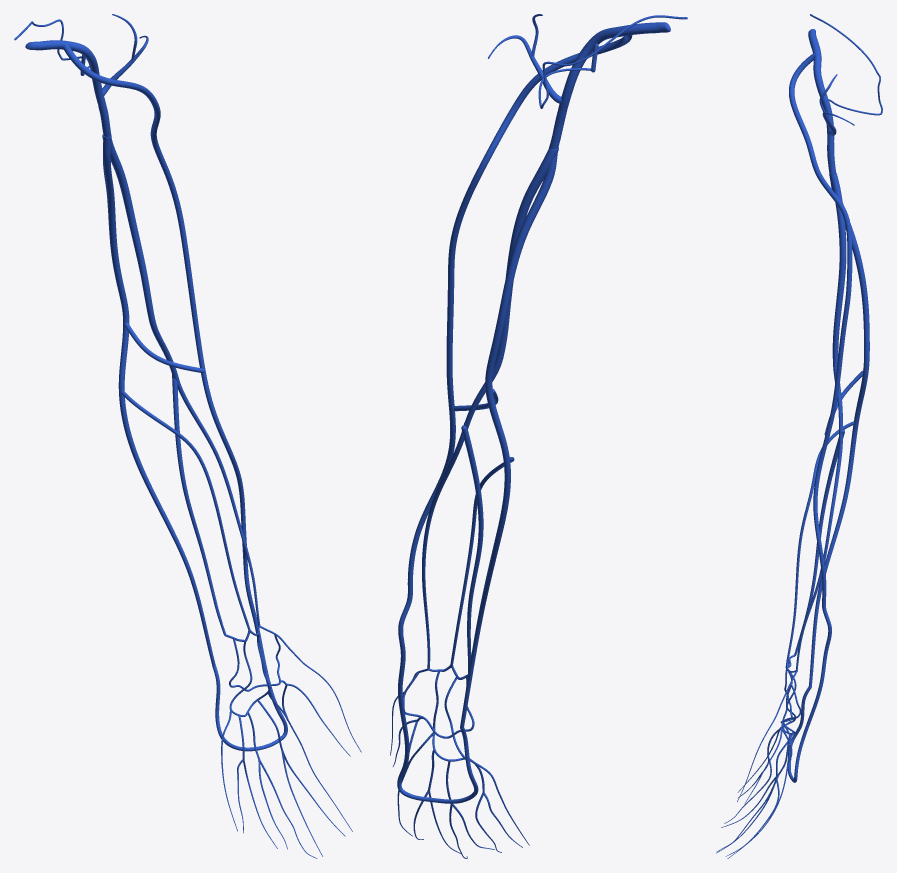
Rendered from veins.upper_limb_left.glb.
3 views of the same model, side by side, from view 1: azimuth 30°, elevation 25°; view 2: azimuth 150°, elevation 25°; view 3: azimuth 270°, elevation 25° (orthographic). The views are drawn at different scales.
Visible parts, largest first — view 1: left_cephalic_vein, left_basilic_vein, left_medial_brachial_vein, left_ulnar_vein, left_axillary_vein, left_median_antebrachial_vein, left_radial_vein, dorsal_venous_network_of_left_hand, proper_palmar_digital_vein_of_left_little_finger; view 2: left_cephalic_vein, left_basilic_vein, left_axillary_vein, left_medial_brachial_vein, left_ulnar_vein, left_radial_vein, dorsal_venous_network_of_left_hand, left_median_antebrachial_vein, proper_palmar_digital_vein_of_left_little_finger, left_anterior_circumflex_humeral_vein, left_superficial_palmar_venous_arch, left_suprascapular_vein; view 3: left_cephalic_vein, left_basilic_vein, left_medial_brachial_vein, left_axillary_vein, left_radial_vein, left_median_antebrachial_vein, left_ulnar_vein, dorsal_venous_network_of_left_hand, proper_palmar_digital_vein_of_left_little_finger, left_palmar_metacarpal_vein.
Boxes of the visible parts, bbox=[...] form: left_cephalic_vein: bbox=[63, 42, 267, 672]; left_basilic_vein: bbox=[103, 135, 215, 666]; left_medial_brachial_vein: bbox=[102, 134, 178, 377]; left_ulnar_vein: bbox=[172, 374, 245, 642]; left_axillary_vein: bbox=[25, 40, 111, 136]; left_median_antebrachial_vein: bbox=[121, 391, 259, 641]; left_radial_vein: bbox=[174, 374, 260, 626]; dorsal_venous_network_of_left_hand: bbox=[212, 665, 287, 751]; proper_palmar_digital_vein_of_left_little_finger: bbox=[221, 692, 302, 833]; left_cephalic_vein: bbox=[398, 35, 632, 734]; left_basilic_vein: bbox=[460, 153, 557, 727]; left_axillary_vein: bbox=[549, 22, 670, 149]; left_medial_brachial_vein: bbox=[465, 147, 558, 429]; left_ulnar_vein: bbox=[456, 425, 483, 679]; left_radial_vein: bbox=[422, 422, 465, 668]; dorsal_venous_network_of_left_hand: bbox=[397, 727, 478, 803]; left_median_antebrachial_vein: bbox=[439, 457, 514, 675]; proper_palmar_digital_vein_of_left_little_finger: bbox=[398, 732, 529, 847]; left_anterior_circumflex_humeral_vein: bbox=[488, 14, 561, 103]; left_superficial_palmar_venous_arch: bbox=[428, 669, 465, 761]; left_suprascapular_vein: bbox=[540, 15, 687, 108]; left_cephalic_vein: bbox=[789, 53, 852, 725]; left_basilic_vein: bbox=[809, 173, 869, 686]; left_medial_brachial_vein: bbox=[830, 172, 846, 432]; left_axillary_vein: bbox=[808, 29, 836, 176]; left_radial_vein: bbox=[795, 427, 843, 670]; left_median_antebrachial_vein: bbox=[785, 421, 854, 671]; left_ulnar_vein: bbox=[786, 429, 844, 668]; dorsal_venous_network_of_left_hand: bbox=[787, 686, 811, 782]; proper_palmar_digital_vein_of_left_little_finger: bbox=[737, 721, 794, 797]; left_palmar_metacarpal_vein: bbox=[737, 671, 797, 804].
Bounding box in the file's own units: 0.2608 × 0.689 × 0.142.
